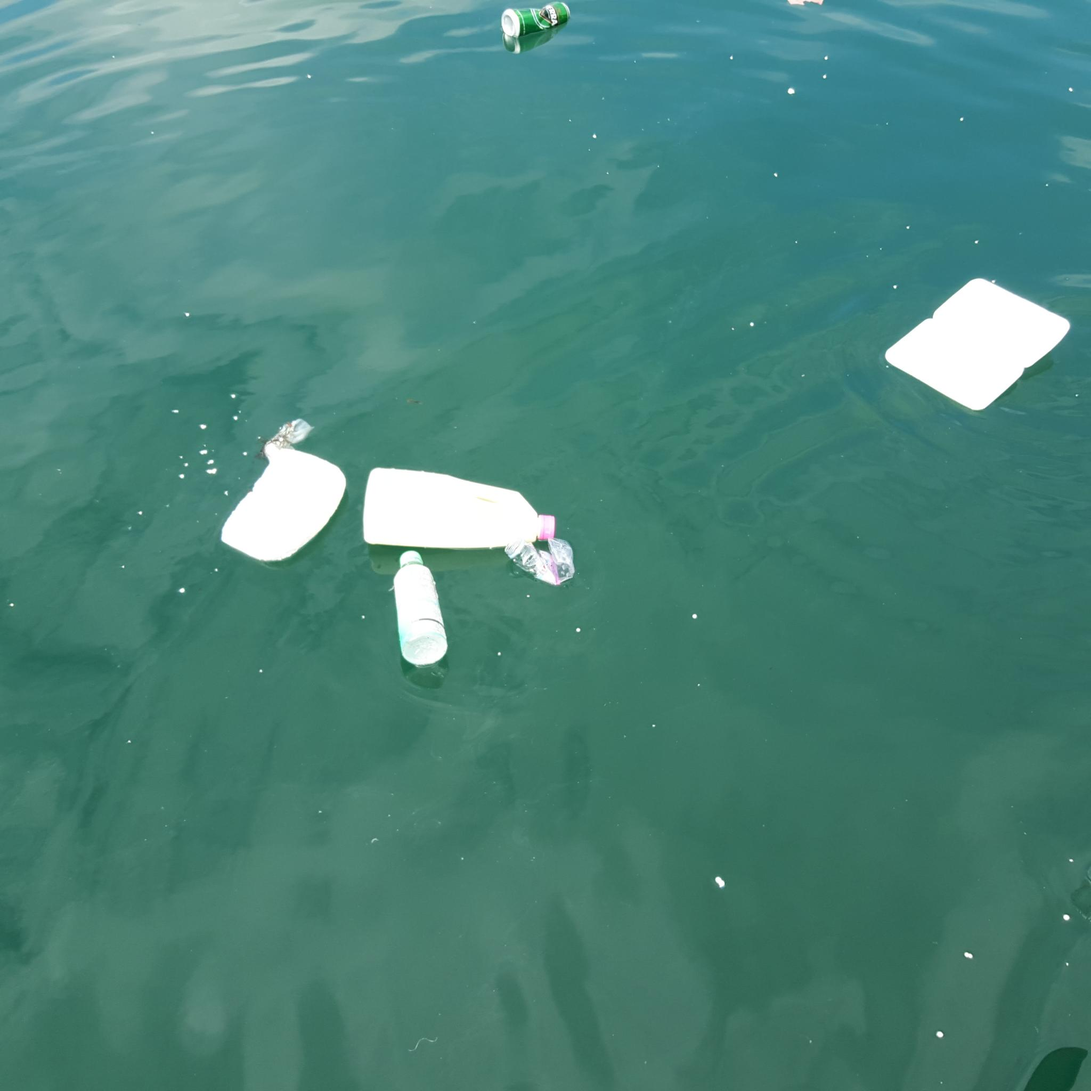sampah_terapung: (885, 278, 1071, 412), (363, 468, 556, 549), (221, 449, 348, 563), (394, 551, 448, 667), (505, 537, 575, 585), (502, 2, 572, 39)
